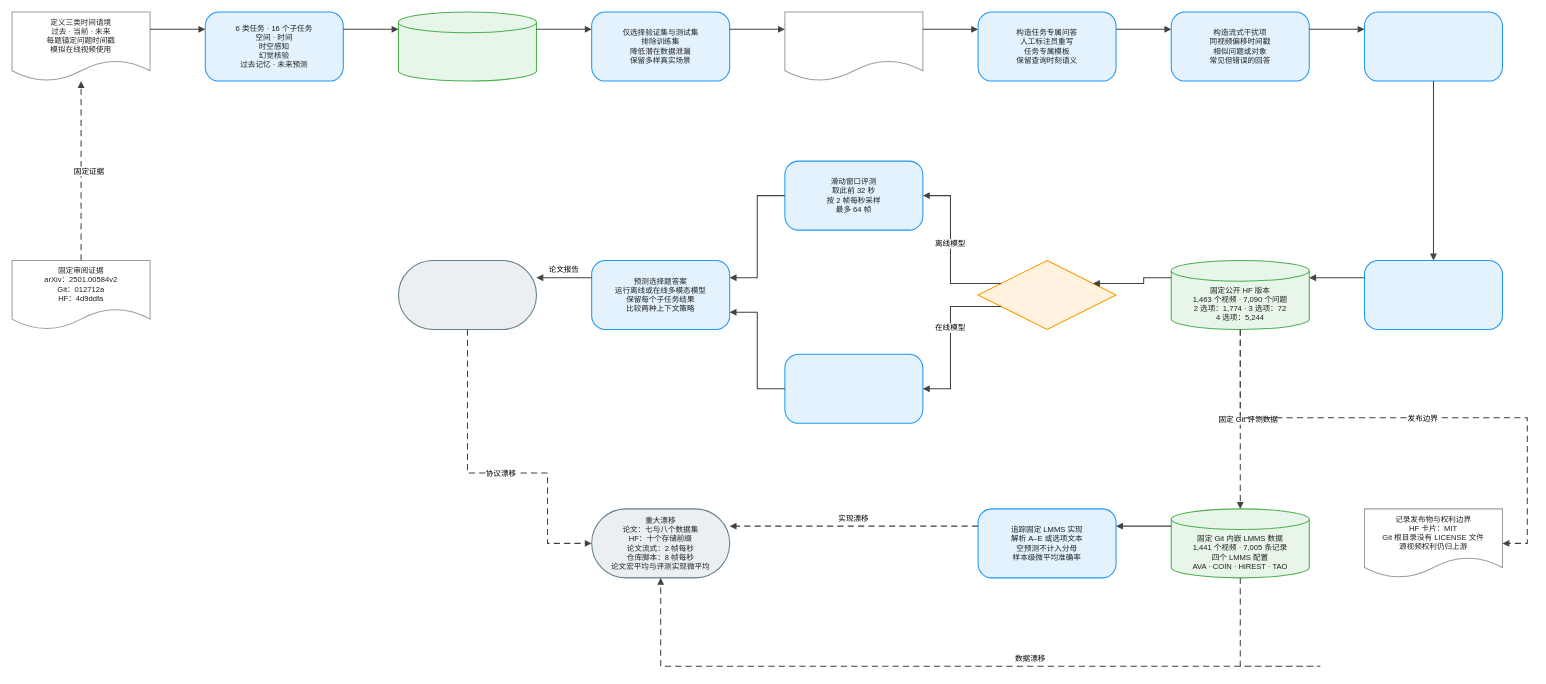
The diagram is 1546 pixels wide and 684 high, and some of its shapes have lost their labels. Here are the shapes that lost their labels. From the top down, the centre of each, then its label:
At pixel 467 46: "论文内部数量矛盾 引言：七个数据集 第 3.2 节：八个数据集 六个领域 不把两种口径强行合并".
At pixel 853 46: "复用已有时空标注 精确时间戳 · 边界框 动作与对象标注 轨迹信息".
At pixel 1433 46: "执行人工质量检查 检查问题清晰度 检查选项歧义 核验标注准确性".
At pixel 467 295: "复现论文计分 计算 16 个子任务准确率 再取无权算术平均 对齐论文表 2 的 AVG".
At pixel 1046 295: "选择评测上下文 使用同一批时间戳选择题 离线滑动窗口 在线流式输入".
At pixel 1433 295: "裁剪并平衡样本 从最早相关问题处开始 按视频时长比例抽样 场景多样性 · 任务平衡".
At pixel 853 388: "流式评测 从片段起点到问题时间戳 按 2 帧每秒采样 累积当时可见上下文".
